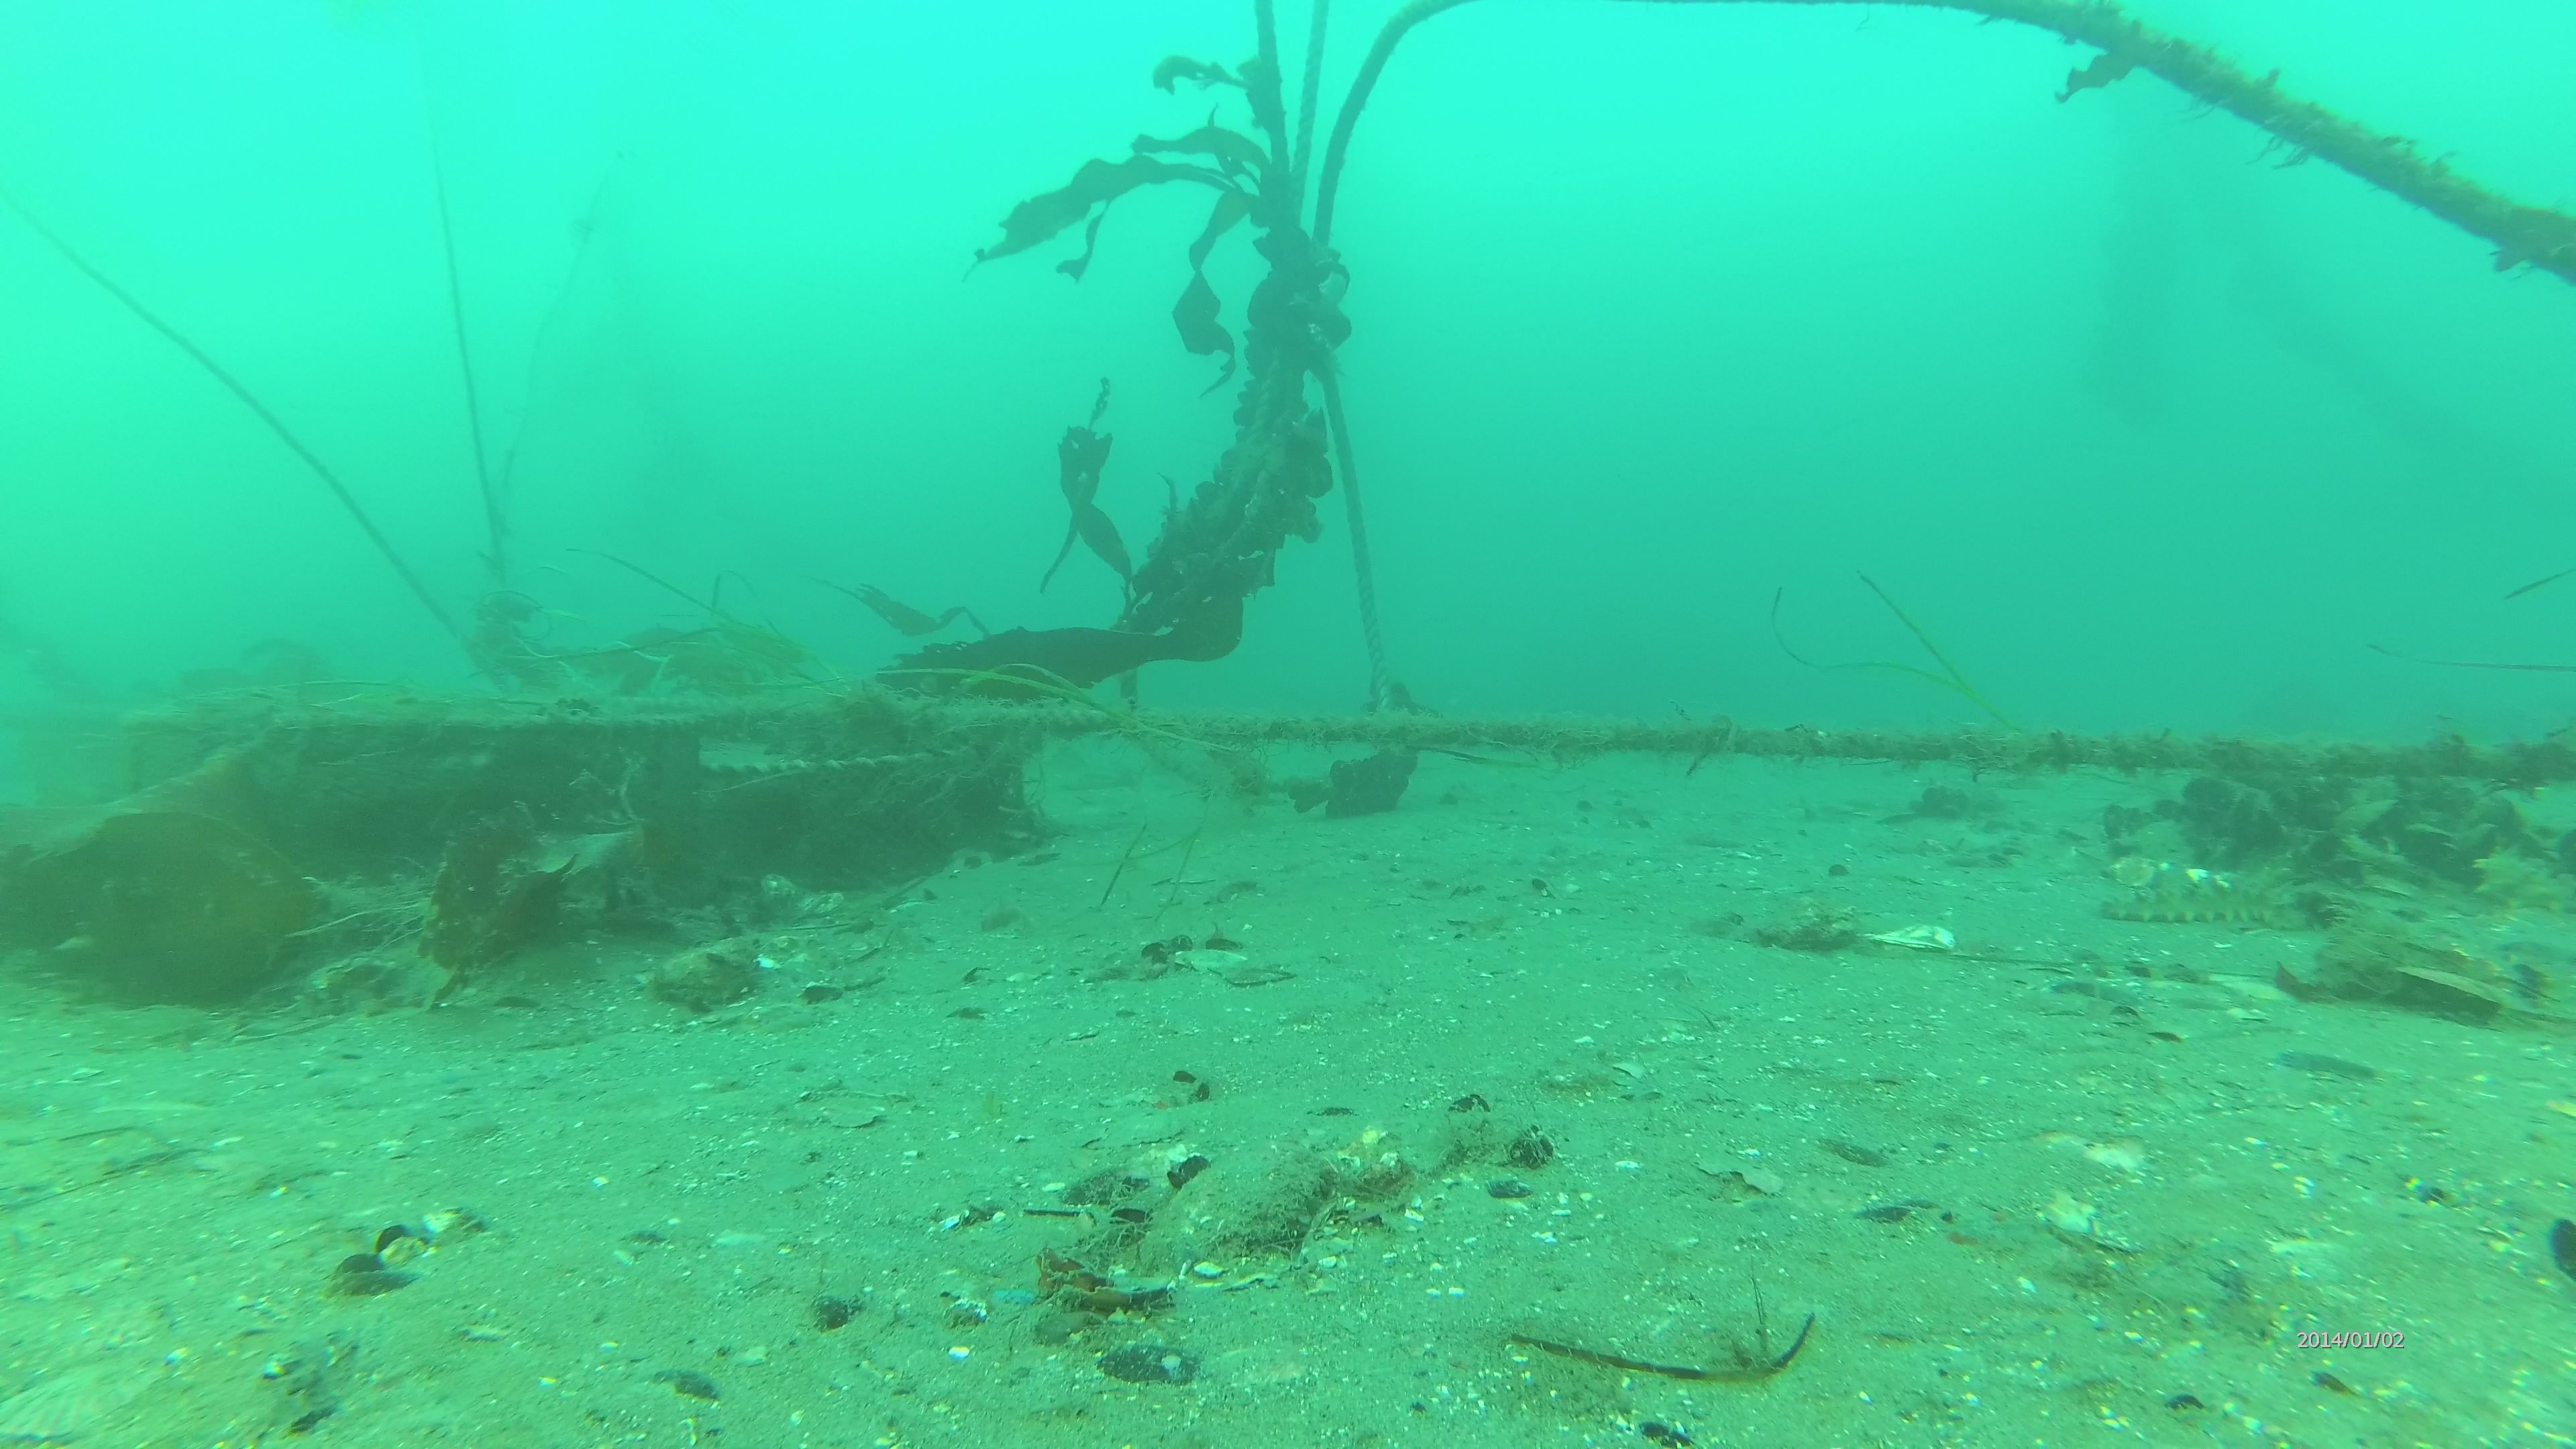holothurian: (2097, 876, 2279, 931)
